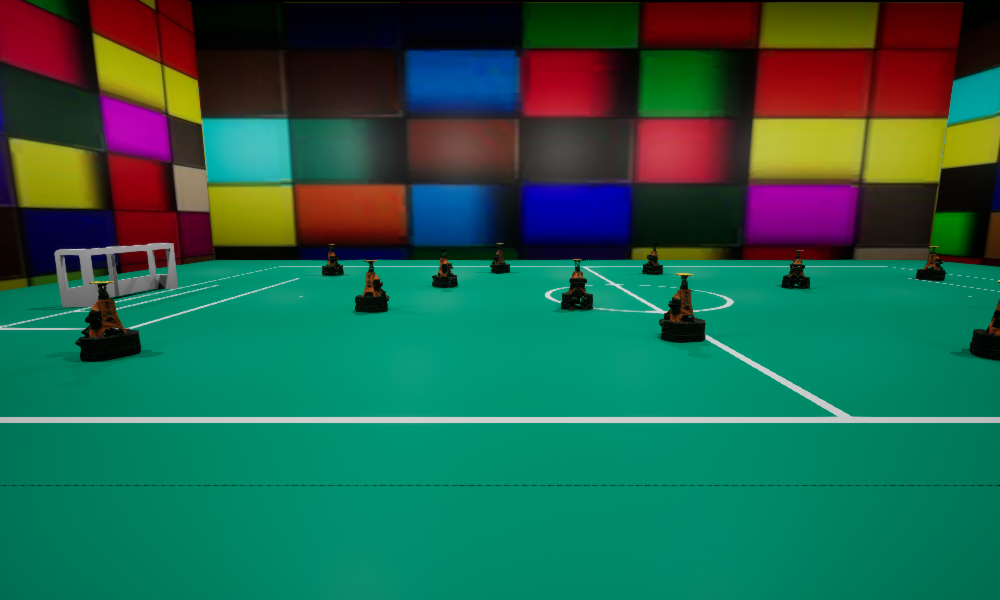0 orange robot TechUnited: (75, 281, 140, 360), (659, 273, 705, 342), (969, 281, 999, 360), (355, 260, 389, 312), (561, 259, 592, 309), (781, 250, 809, 288), (916, 246, 946, 280), (432, 250, 457, 287), (322, 244, 343, 275), (642, 244, 662, 274), (490, 243, 509, 272)
